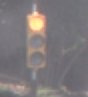Red: (21, 12, 51, 71)
